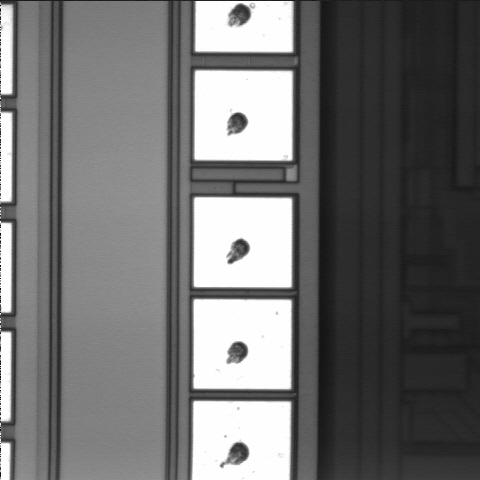pad: (194, 71, 292, 161), (194, 197, 292, 287), (194, 299, 291, 389)
